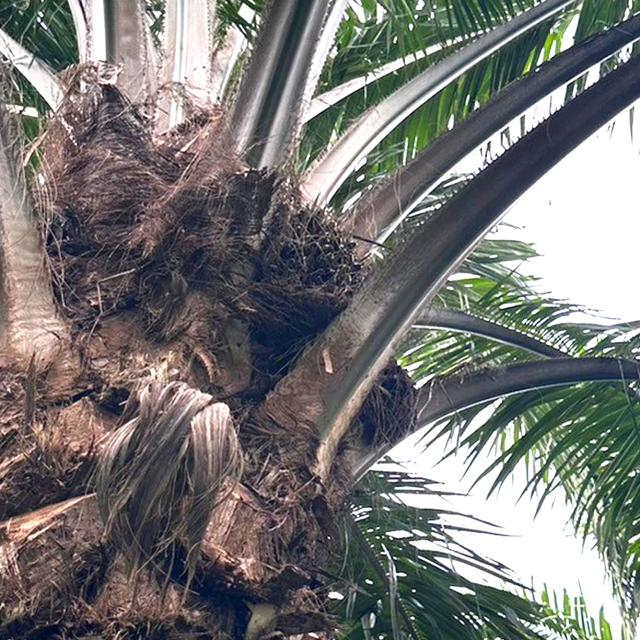almost: (246, 193, 369, 367)
unripe: (335, 355, 424, 468)
